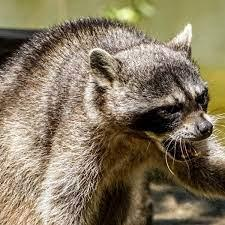raccoon: (0, 9, 225, 225)
